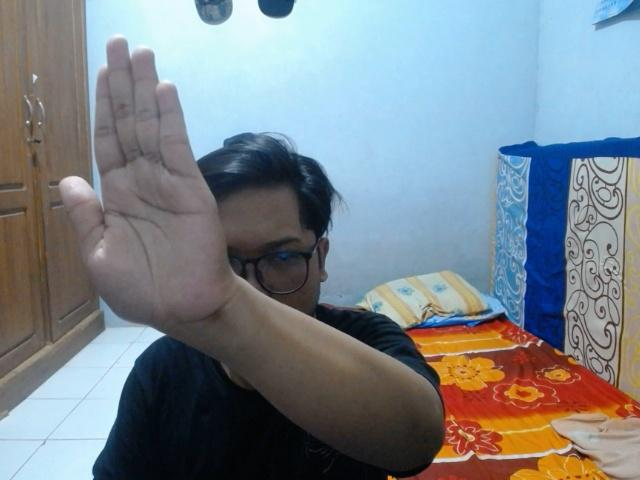Release: (56, 30, 232, 330)
